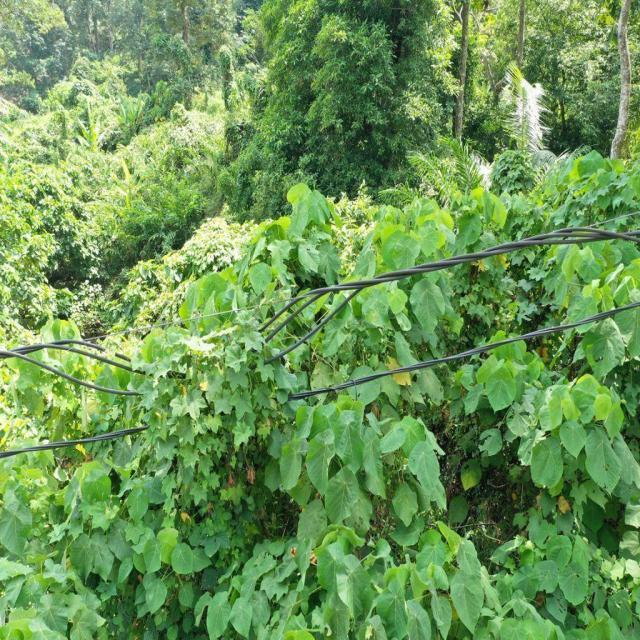critical vegetation: (102, 312, 302, 458)
